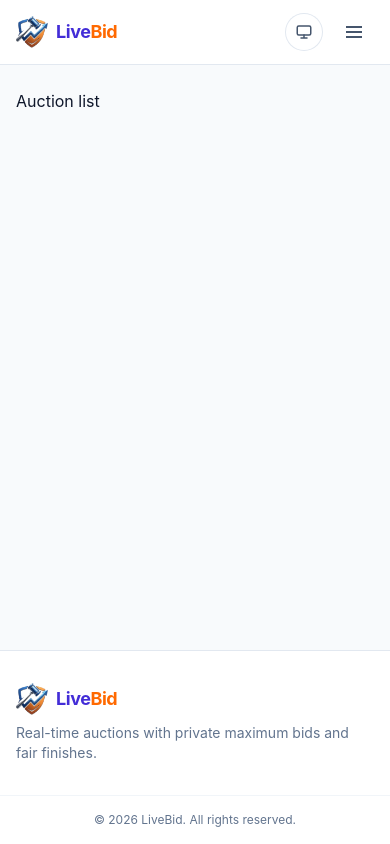
Test: <Layout> phone menu › offers log in and register to guests
The width and height of the screenshot is (390, 844).
Click the button named "menu": (354, 32) [334, 12, 374, 52]
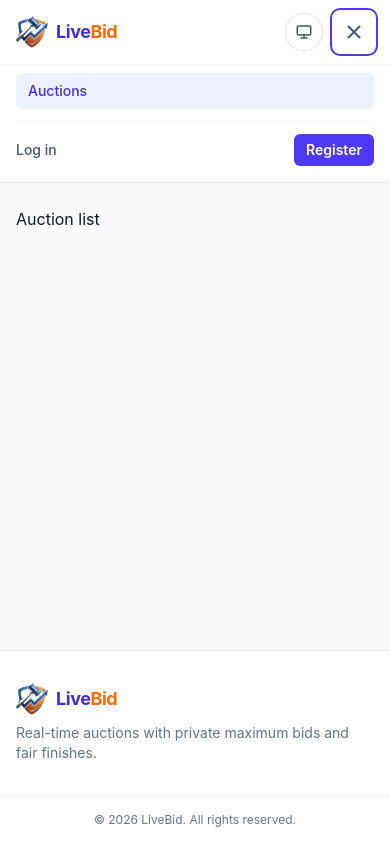
Now the link "Log in" is shown, box [16, 140, 57, 160]
Now the link "Register" is shown, box [294, 134, 374, 166]
